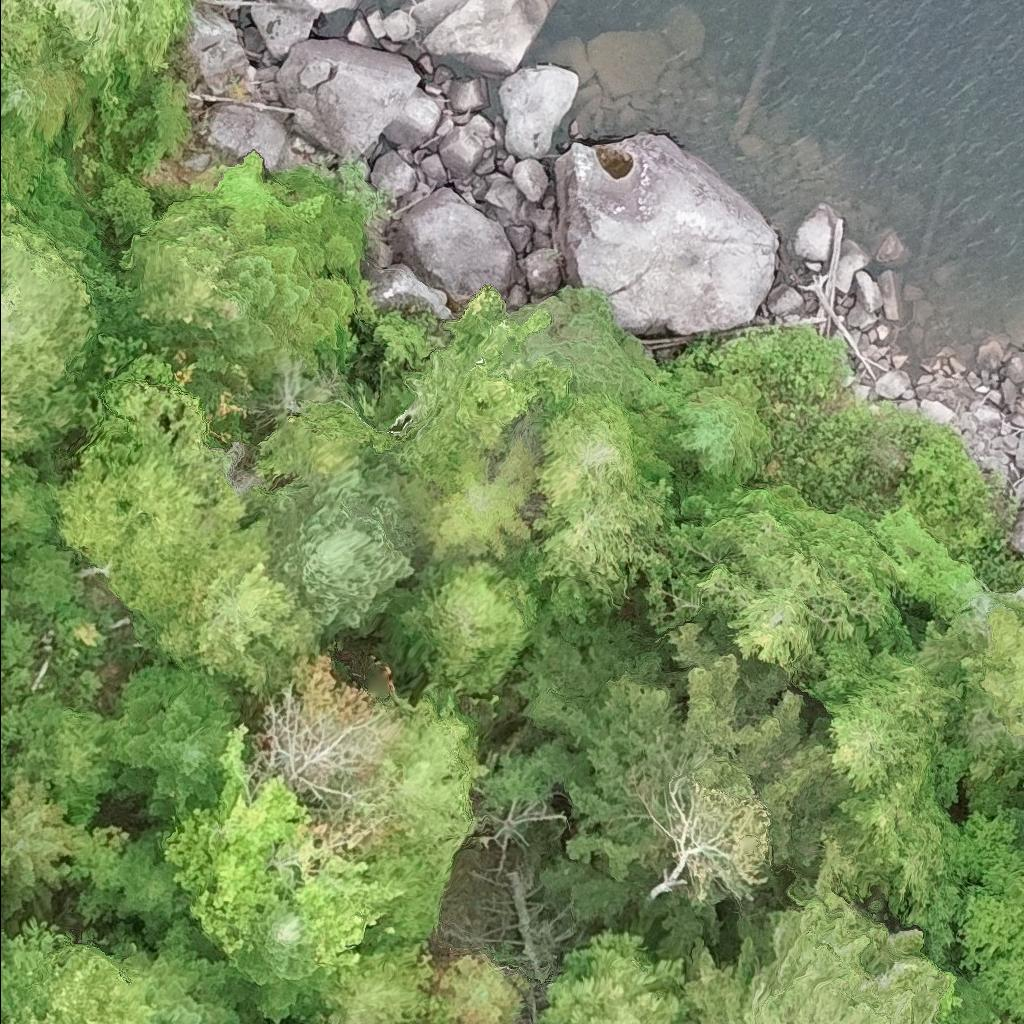crown: (510, 607, 852, 960), (50, 382, 250, 627), (682, 886, 951, 1023), (157, 723, 315, 950), (155, 511, 322, 700), (805, 625, 964, 791), (268, 458, 413, 632), (208, 205, 355, 359), (110, 661, 238, 819), (396, 548, 530, 693), (0, 220, 100, 414), (698, 548, 852, 672), (375, 673, 482, 848), (0, 911, 157, 1023), (126, 194, 243, 334), (776, 508, 893, 644), (536, 487, 664, 607), (425, 436, 540, 564), (537, 927, 690, 1023), (532, 395, 638, 532), (0, 763, 85, 929), (221, 902, 335, 1023), (284, 855, 405, 968), (26, 0, 181, 86), (149, 917, 274, 1023), (666, 366, 777, 481), (9, 183, 112, 272), (326, 943, 434, 1023), (432, 951, 534, 1023), (699, 488, 793, 563), (0, 538, 80, 616), (980, 603, 1023, 736), (0, 60, 64, 133), (0, 393, 51, 477), (0, 0, 56, 65), (0, 165, 9, 202), (0, 547, 12, 561), (0, 529, 3, 542), (0, 145, 2, 158), (1022, 781, 1023, 788), (1023, 833, 1023, 840)
